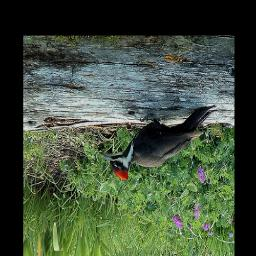Woodpecker: (101, 107, 216, 181)
